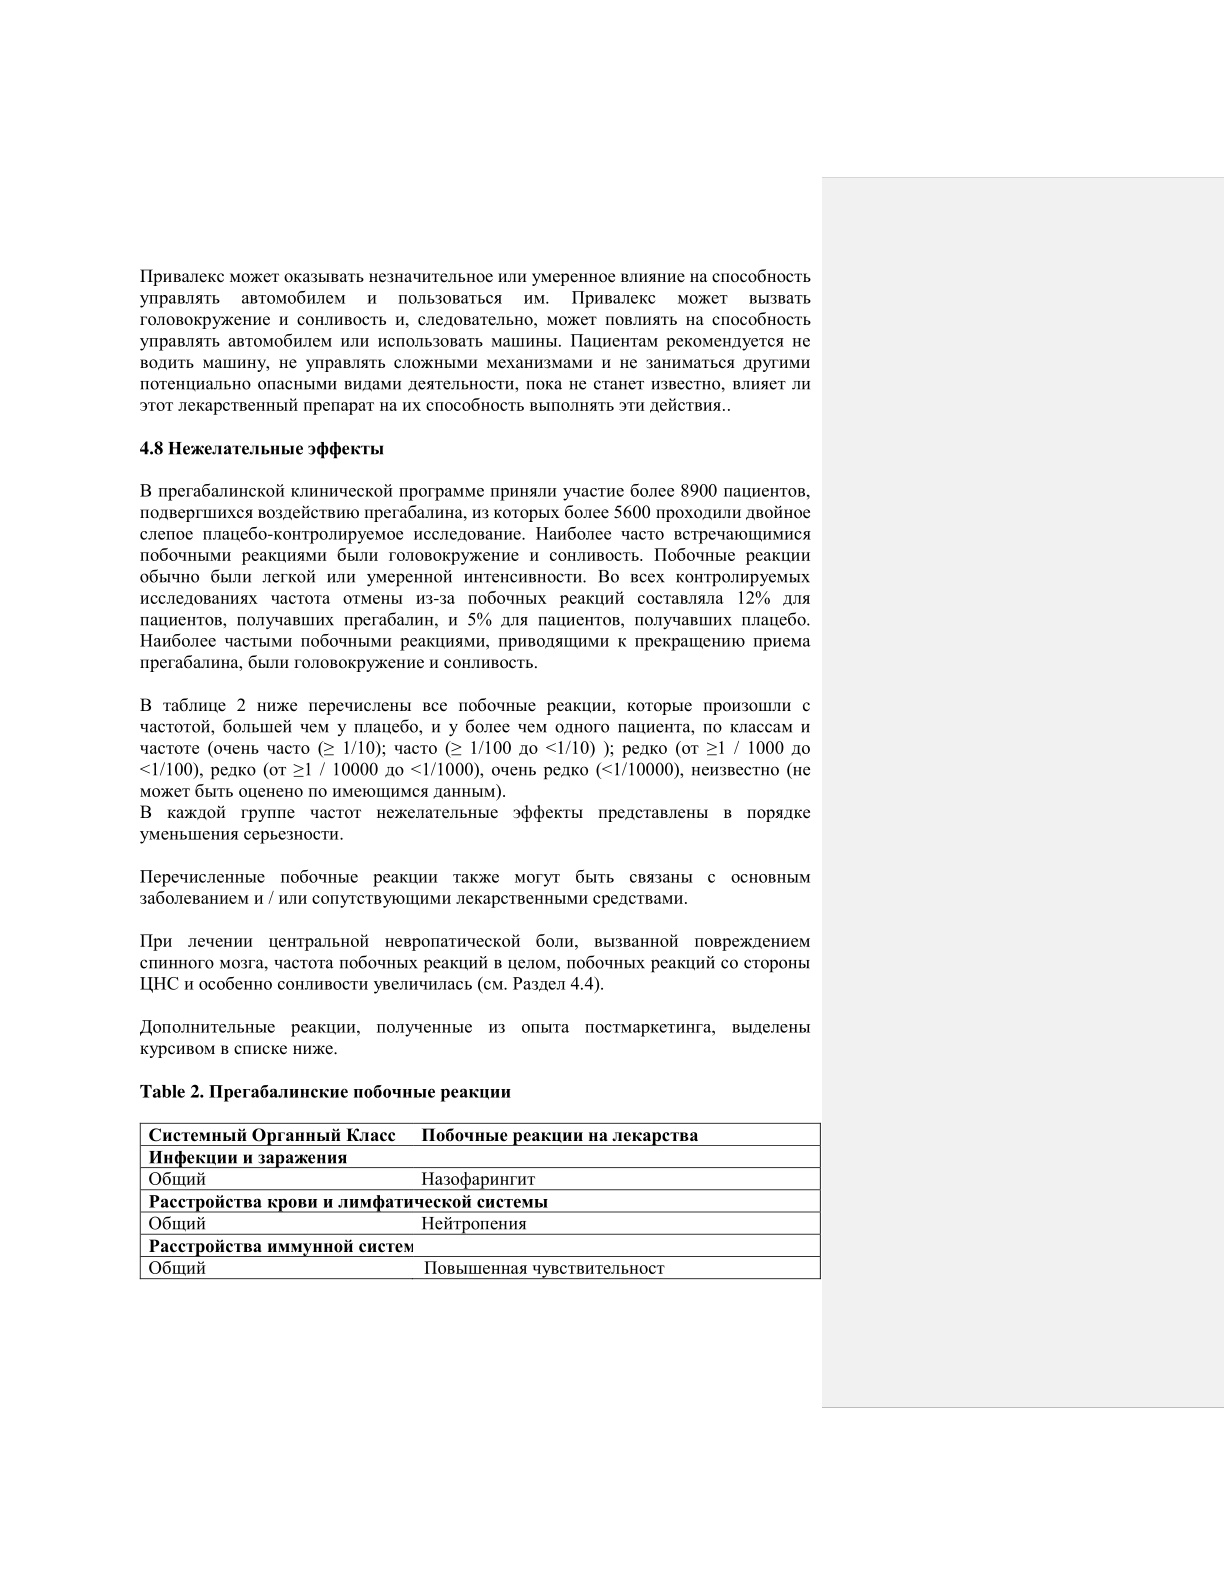partial_lined: (138, 1120, 823, 1282)
